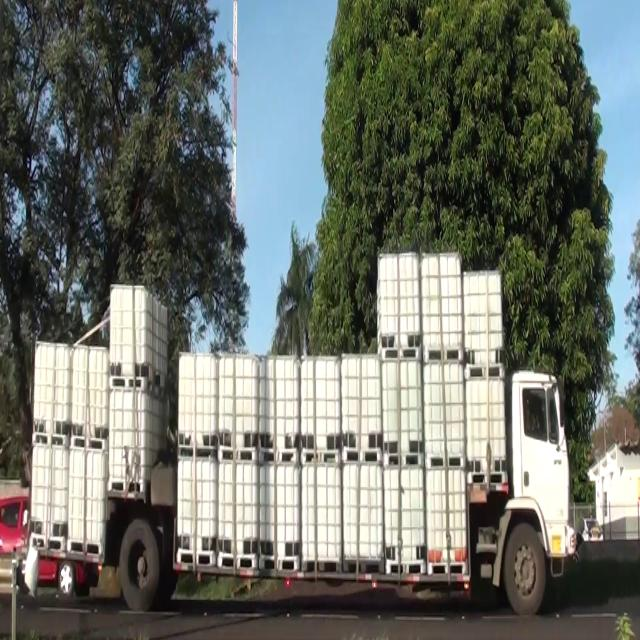-axle: (120, 516, 164, 606), (506, 526, 548, 616)
